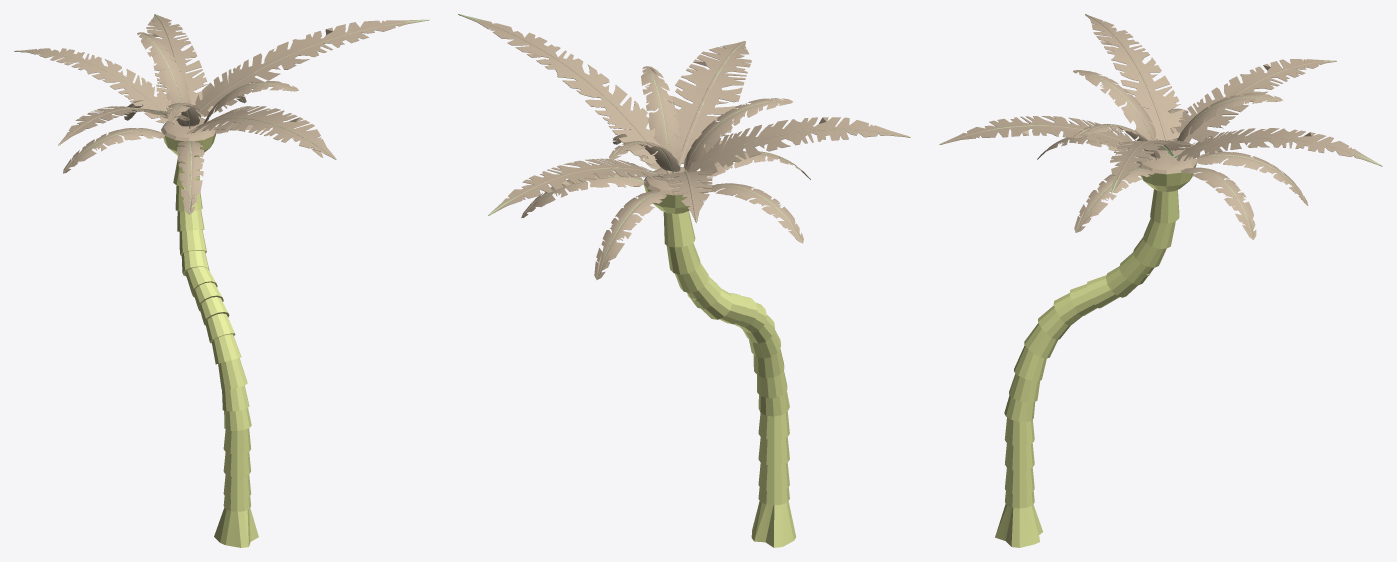
File: Palma3.fbx
The picture shows the model from 3 angles, left to right: view 1: azimuth 30°, elevation 25°; view 2: azimuth 150°, elevation 25°; view 3: azimuth 270°, elevation 25°; orthographic projection. The views are drawn at different scales.
Parts seen in each view (by area): view 1: Palma_3; view 2: Palma_3; view 3: Palma_3.
Part boxes in pixels (x1,y1,x2,y2): Palma_3: (14, 14, 429, 547); Palma_3: (458, 14, 910, 547); Palma_3: (939, 14, 1382, 547).
Size of the model in its own units: 627 by 674 by 576.
